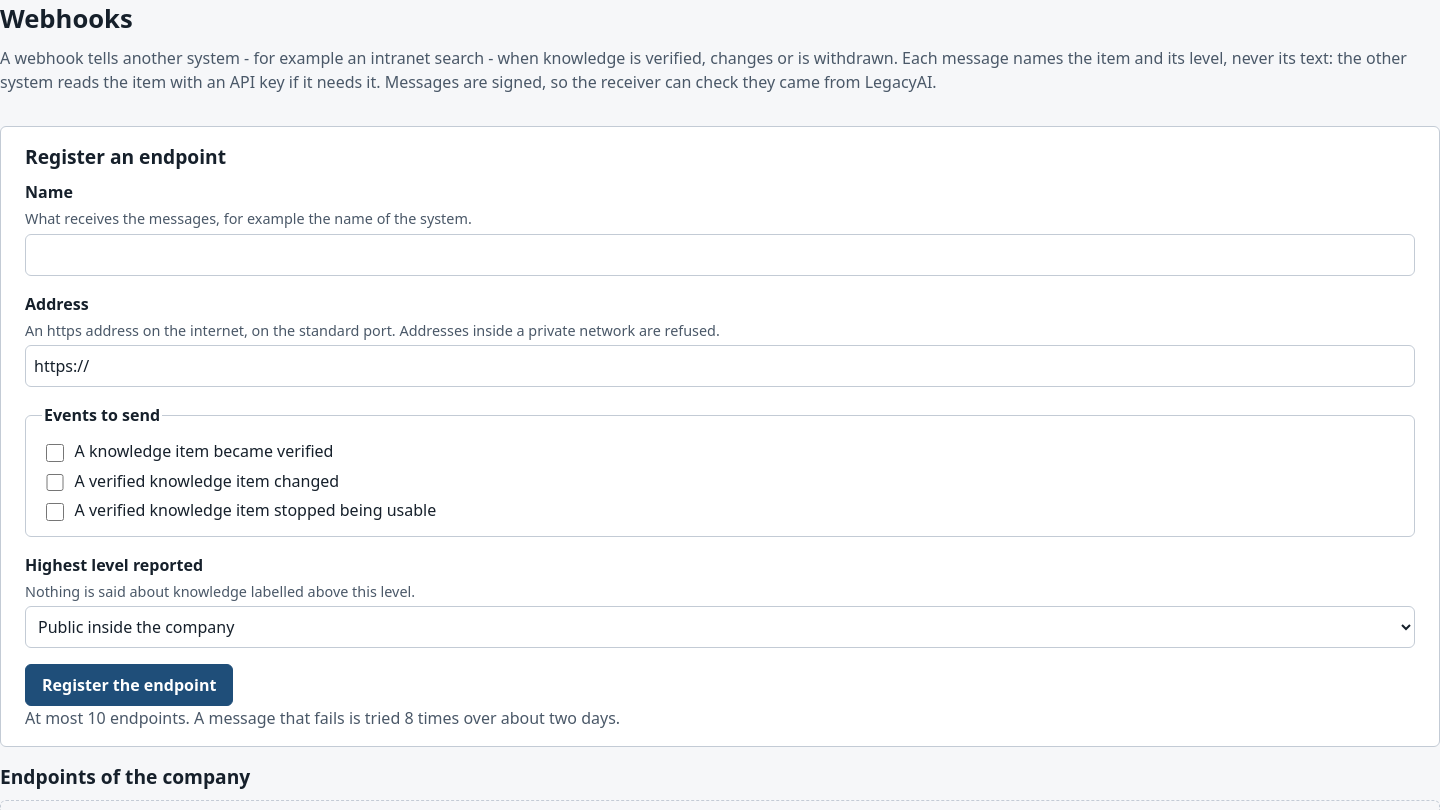
Scenario: the webhooks screen › registers an endpoint and shows its signing secret once, until told it was copied
Click the button "Register the endpoint" at (129, 685), box top-left (25, 664), bottom-right (233, 706)
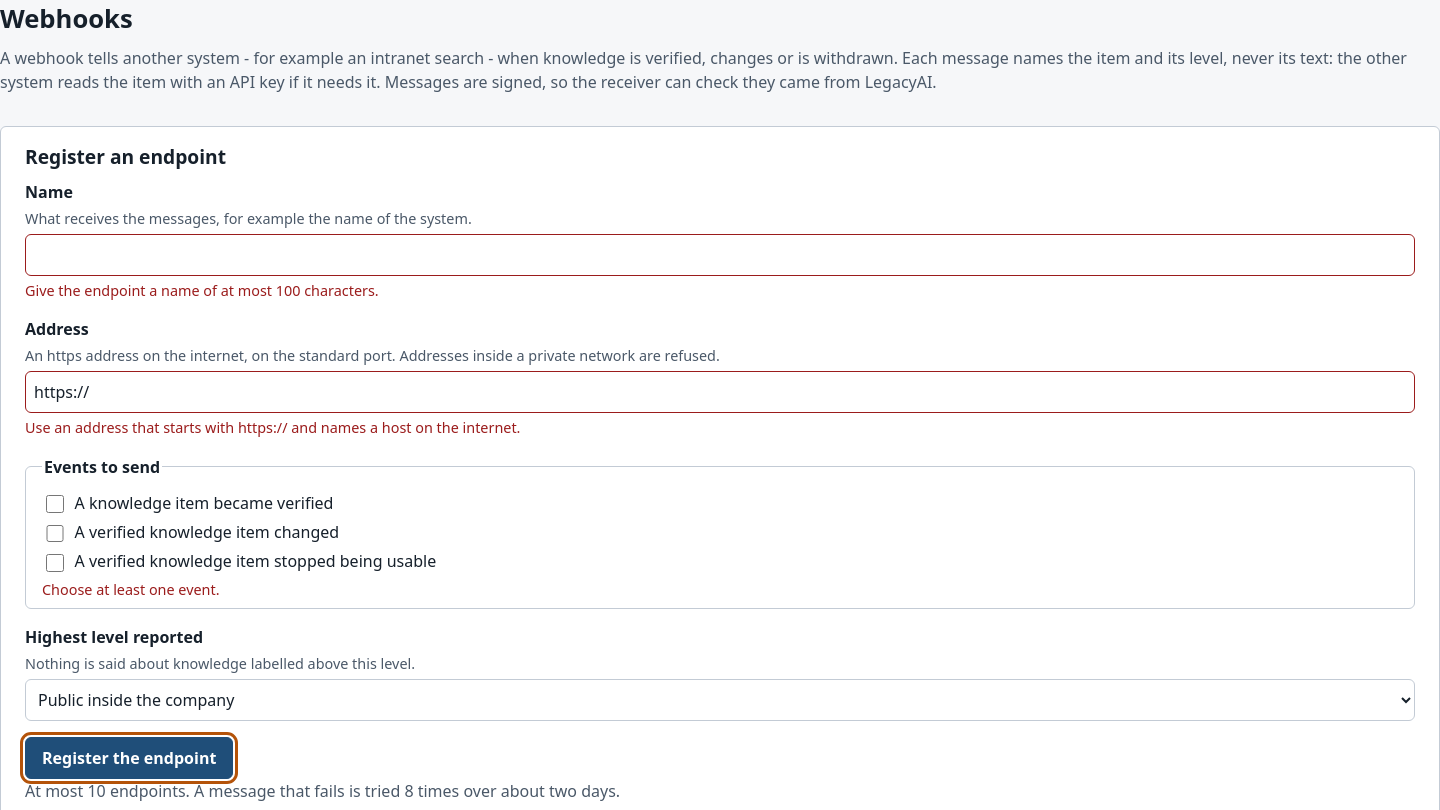
Now the text "Choose at least one event." is shown, box top-left (42, 580), bottom-right (220, 599)
Type "Search index" into the field labelled "Name" at (720, 255), box top-left (25, 234), bottom-right (1415, 276)
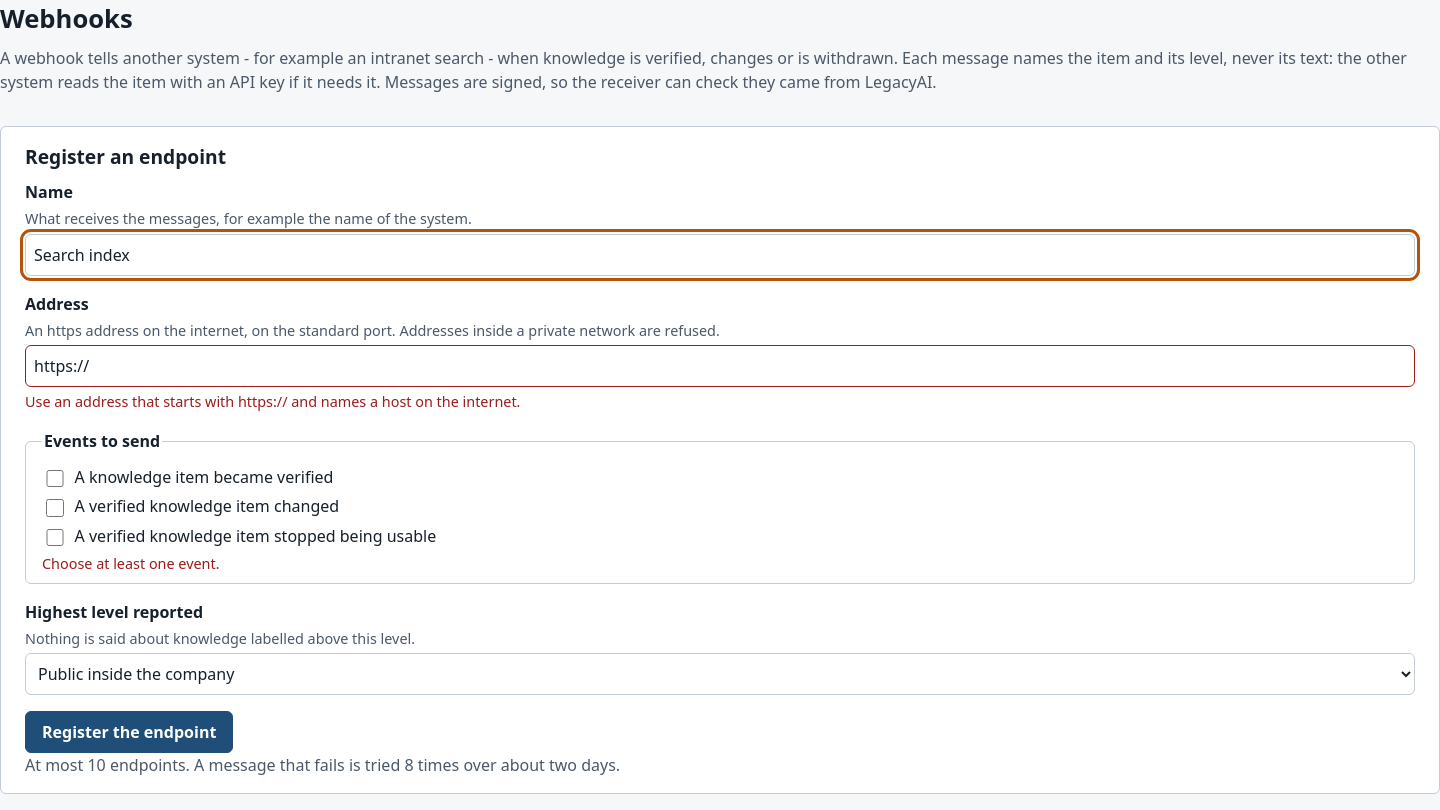
Type "hooks.example.com/legacyai" into the field labelled "Address" at (720, 366), box top-left (25, 345), bottom-right (1415, 387)
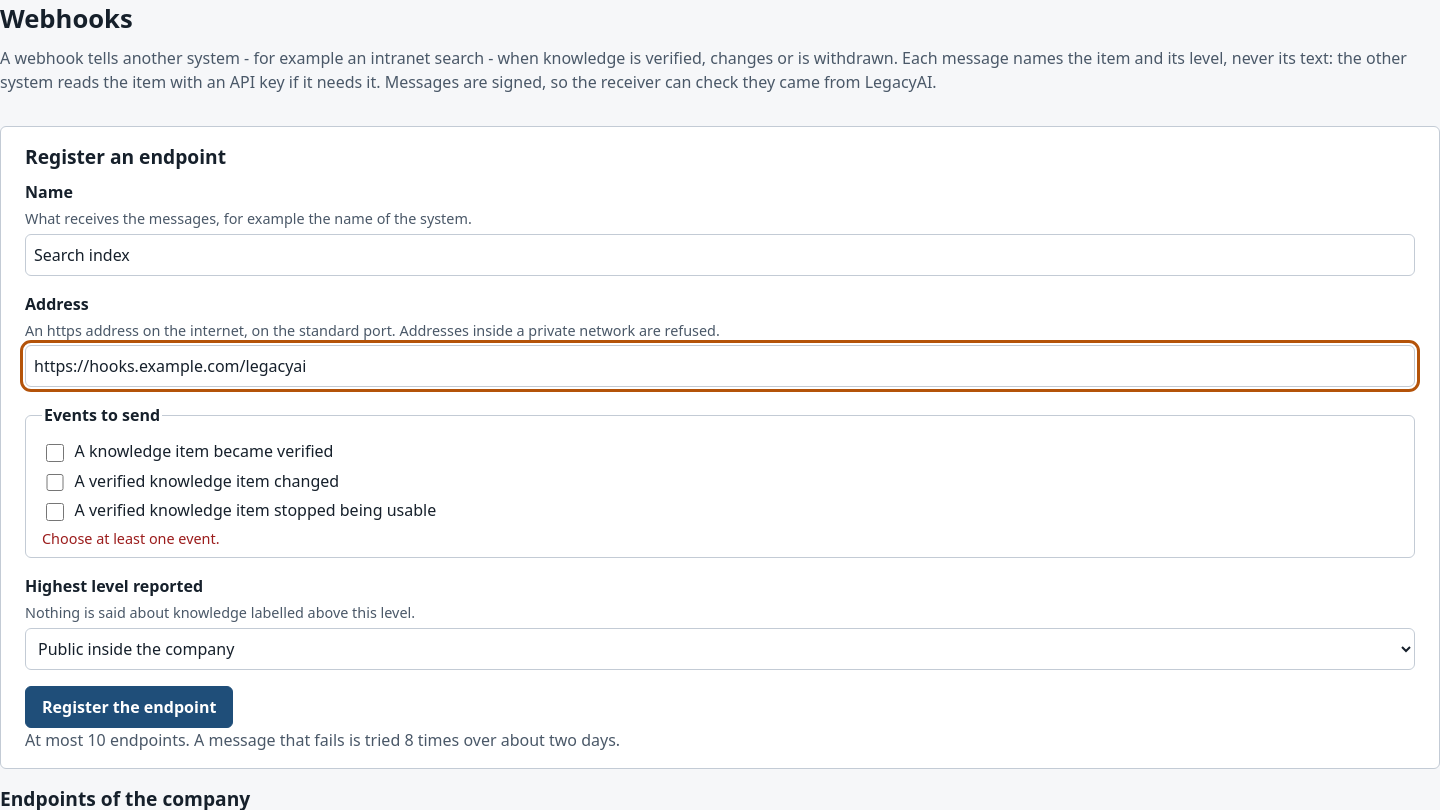
Click the checkbox labelled "A knowledge item became verified" at (55, 453), box top-left (46, 444), bottom-right (64, 462)
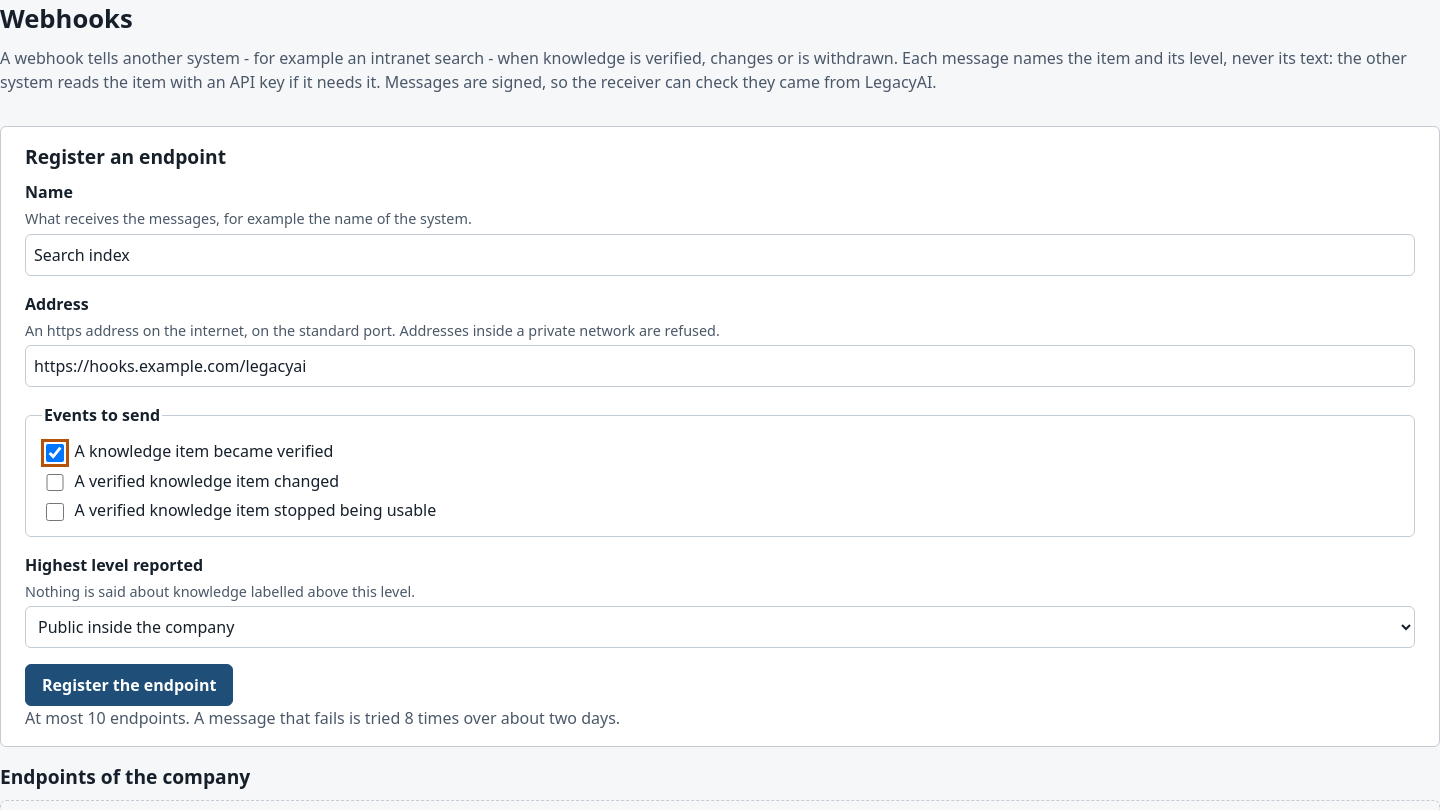
Click the button "Register the endpoint" at (129, 685), box top-left (25, 664), bottom-right (233, 706)
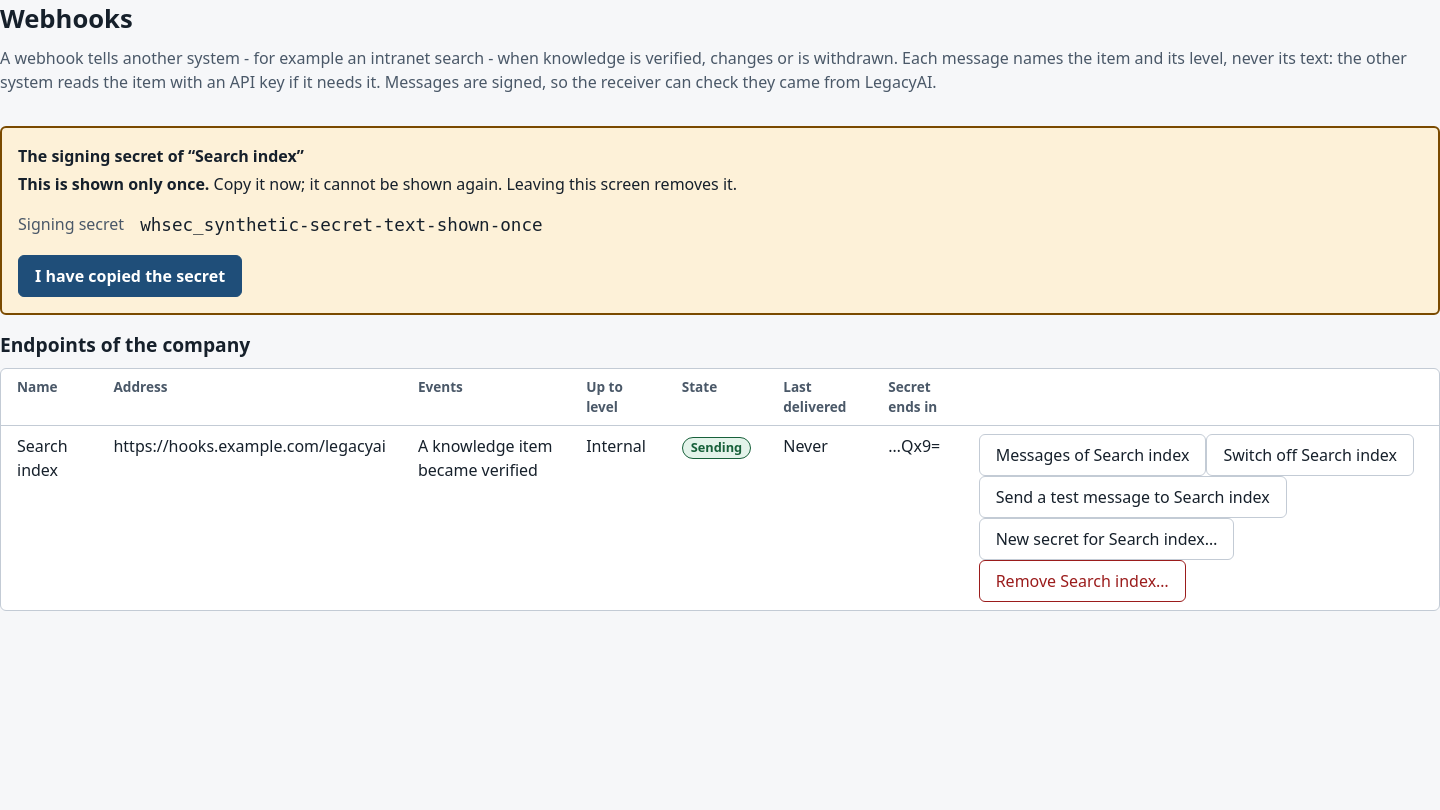
Now the cell "Search index" is shown, box top-left (1, 426), bottom-right (98, 610)
Now the text with test id "shown-once" reads "whsec_synthetic-secret-text-shown-once", box top-left (140, 215), bottom-right (543, 235)
Click the button "I have copied the secret" at (130, 276), box top-left (18, 255), bottom-right (242, 297)
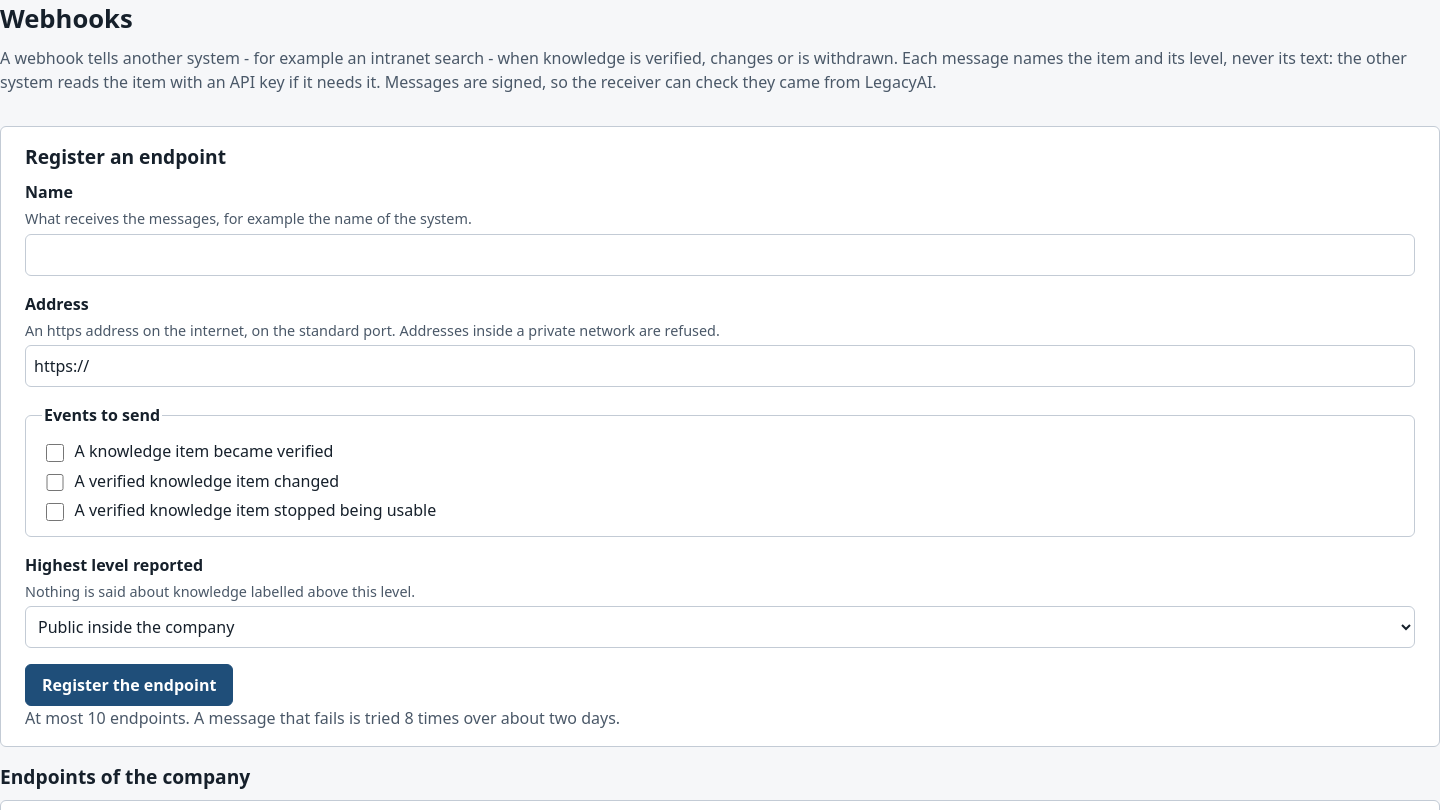
Now the text "whsec_synthetic-secret-text-shown-once" is gone
